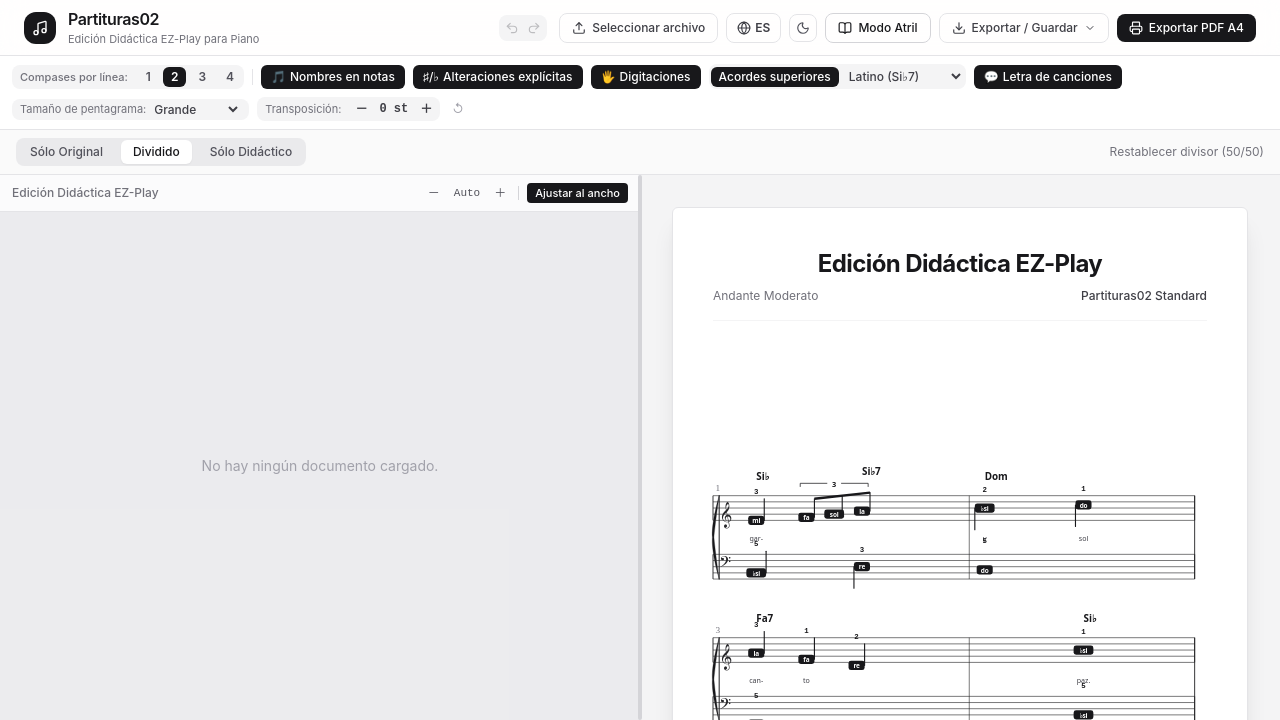
Test case: App Component i18n and UI › opens and closes PdfExportModal when export button is clicked
Step 1. Click the button with test id "export-pdf-btn" → (1186, 28), box x1=1117 y1=14 x2=1256 y2=42
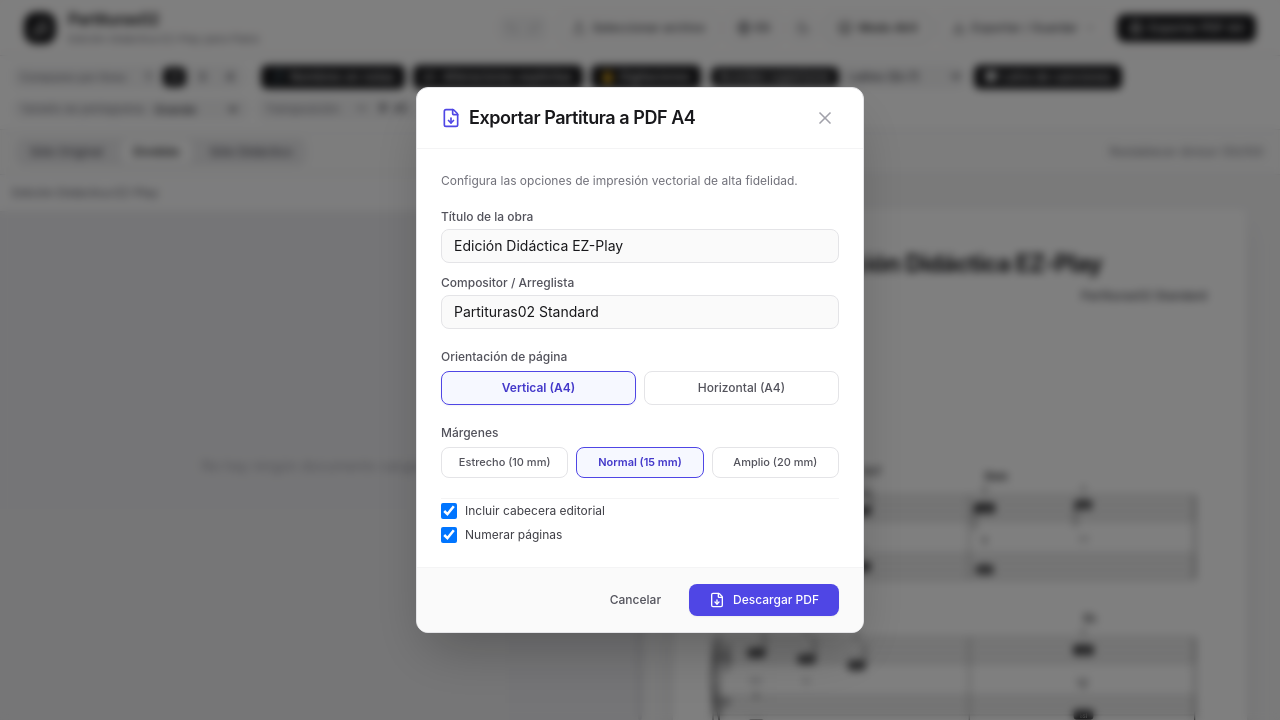
Check: the dialog is shown
Check: the heading "Exportar Partitura a PDF A4" is shown, box x1=469 y1=104 x2=695 y2=132
Step 2. Click the button "Cancelar" → (635, 600), box x1=594 y1=584 x2=677 y2=616
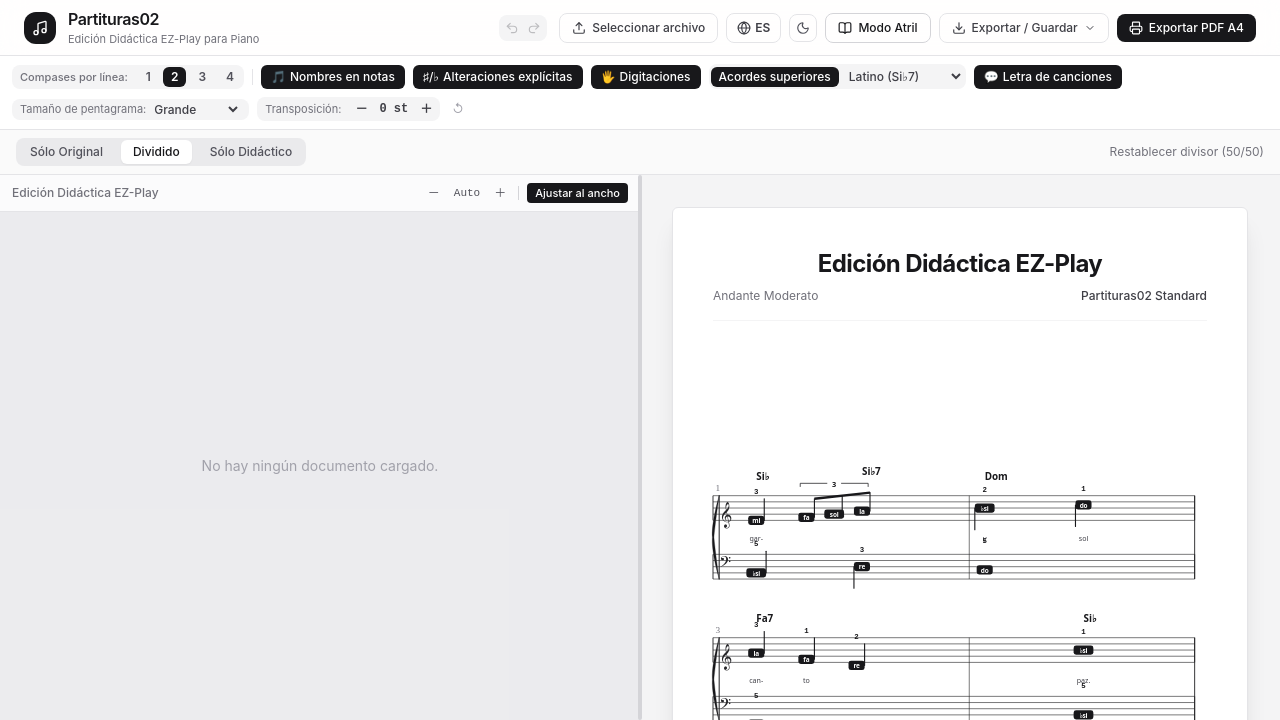
Check: the dialog is gone
